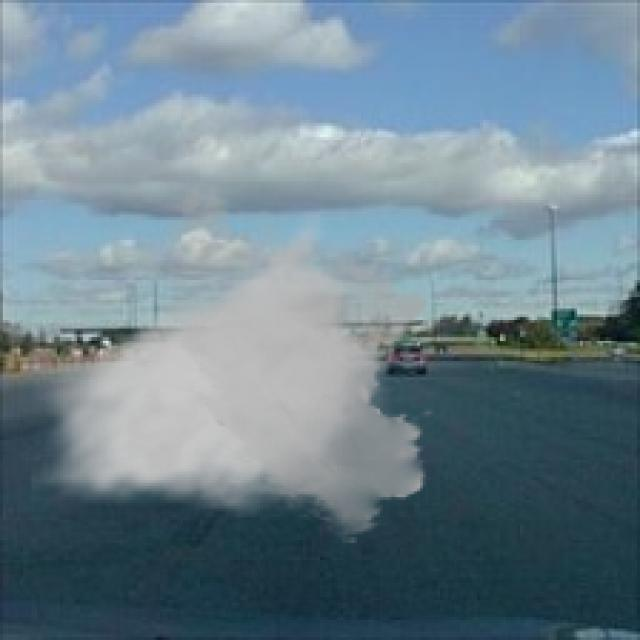smoke: (32, 177, 437, 546)
